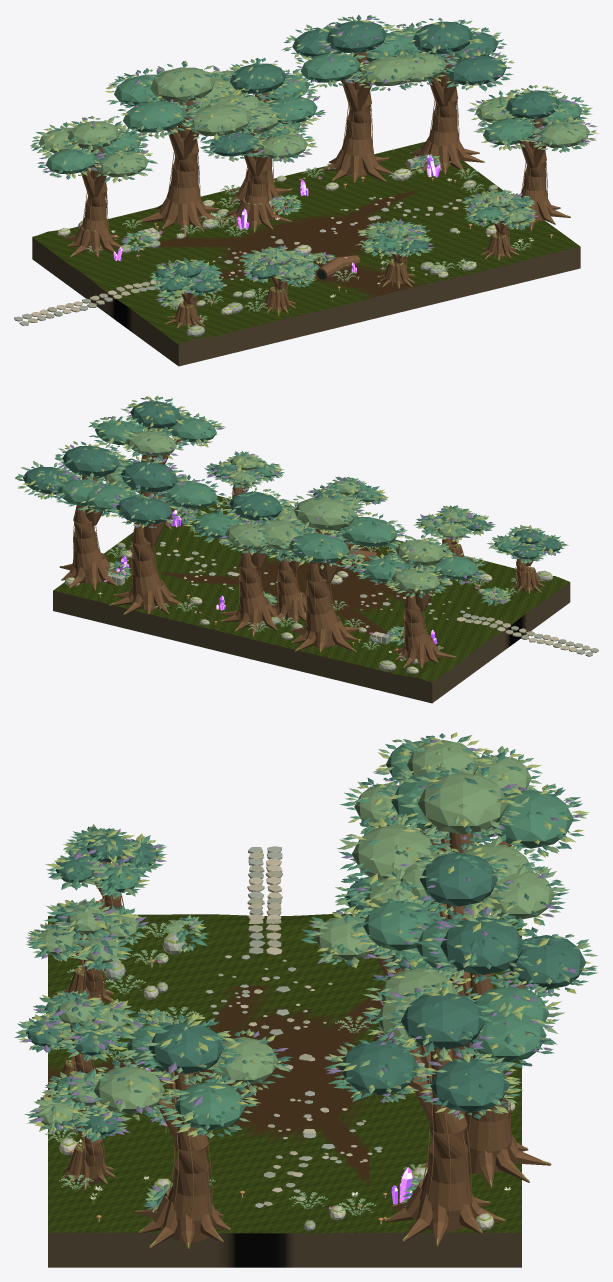
Rendered from ForestRealm.fbx.
3 renders of one model, top to bottom at view 1: azimuth 30°, elevation 25°; view 2: azimuth 150°, elevation 25°; view 3: azimuth 270°, elevation 25°, orthographic. The views are drawn at different scales.
Parts seen in each view (by area): view 1: Extension • solid connected woodland ground, Sculpted broadleaf canopy.013, Sculpted broadleaf canopy.017, Sculpted broadleaf canopy.015, Sculpted broadleaf canopy.012, Sculpted broadleaf canopy.016, Sculpted broadleaf canopy.014, Forest tree • tapered trunk.012, Sculpted broadleaf canopy.022, Layered canopy core.070, Sculpted broadleaf canopy.020, Forest tree • tapered trunk.014 (+35 smaller); view 2: Extension • solid connected woodland ground, Sculpted broadleaf canopy.013, Sculpted broadleaf canopy.015, Sculpted broadleaf canopy.017, Sculpted broadleaf canopy.012, Forest tree • tapered trunk.012, Sculpted broadleaf canopy.016, Sculpted broadleaf canopy.014, Forest tree • tapered trunk.014, Layered canopy core.070, Forest tree • tapered trunk.015, Sculpted broadleaf canopy.020 (+27 smaller); view 3: Extension • solid connected woodland ground, Sculpted broadleaf canopy.017, Sculpted broadleaf canopy.016, Sculpted broadleaf canopy.013, Sculpted broadleaf canopy.015, Forest tree • tapered trunk.015, Sculpted broadleaf canopy.014, Sculpted broadleaf canopy.021, Sculpted broadleaf canopy.020, Sculpted broadleaf canopy.019, Layered canopy core.070, Forest tree • tapered trunk.016 (+32 smaller).
Boxes of the visible parts, <box> form: Extension • solid connected woodland ground: <box>32,141,580,366</box>; Sculpted broadleaf canopy.013: <box>105,60,262,142</box>; Sculpted broadleaf canopy.017: <box>467,85,598,152</box>; Sculpted broadleaf canopy.015: <box>281,15,424,91</box>; Sculpted broadleaf canopy.012: <box>30,116,157,182</box>; Sculpted broadleaf canopy.016: <box>387,17,514,91</box>; Sculpted broadleaf canopy.014: <box>197,58,326,129</box>; Forest tree • tapered trunk.012: <box>166,101,201,223</box>; Sculpted broadleaf canopy.022: <box>200,102,317,163</box>; Layered canopy core.070: <box>150,67,215,102</box>; Sculpted broadleaf canopy.020: <box>238,245,316,284</box>; Forest tree • tapered trunk.014: <box>341,51,373,175</box>; Extension • solid connected woodland ground: <box>53,495,570,703</box>; Sculpted broadleaf canopy.013: <box>250,492,407,569</box>; Sculpted broadleaf canopy.015: <box>80,456,225,528</box>; Sculpted broadleaf canopy.017: <box>88,395,225,460</box>; Sculpted broadleaf canopy.012: <box>353,534,485,598</box>; Forest tree • tapered trunk.012: <box>305,529,337,647</box>; Sculpted broadleaf canopy.016: <box>15,441,141,511</box>; Sculpted broadleaf canopy.014: <box>183,486,314,555</box>; Forest tree • tapered trunk.014: <box>131,491,164,609</box>; Layered canopy core.070: <box>294,497,354,530</box>; Forest tree • tapered trunk.015: <box>72,475,102,583</box>; Sculpted broadleaf canopy.020: <box>413,505,495,542</box>; Extension • solid connected woodland ground: <box>48,913,521,1267</box>; Sculpted broadleaf canopy.017: <box>80,1011,292,1138</box>; Sculpted broadleaf canopy.016: <box>324,981,556,1119</box>; Sculpted broadleaf canopy.013: <box>337,762,589,908</box>; Sculpted broadleaf canopy.015: <box>363,905,597,1033</box>; Forest tree • tapered trunk.015: <box>416,1048,472,1231</box>; Sculpted broadleaf canopy.014: <box>350,843,569,973</box>; Sculpted broadleaf canopy.021: <box>45,824,166,899</box>; Sculpted broadleaf canopy.020: <box>26,897,149,970</box>; Sculpted broadleaf canopy.019: <box>14,989,141,1061</box>; Layered canopy core.070: <box>417,772,507,834</box>; Forest tree • tapered trunk.016: <box>168,1072,212,1242</box>.
Bounding box in the file's own units: 52.37 × 15.59 × 29.61.
